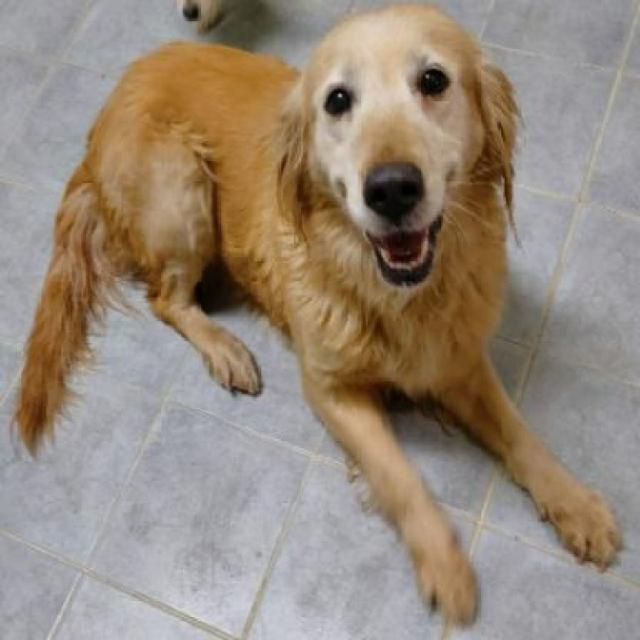Dog: (8, 9, 623, 625)
